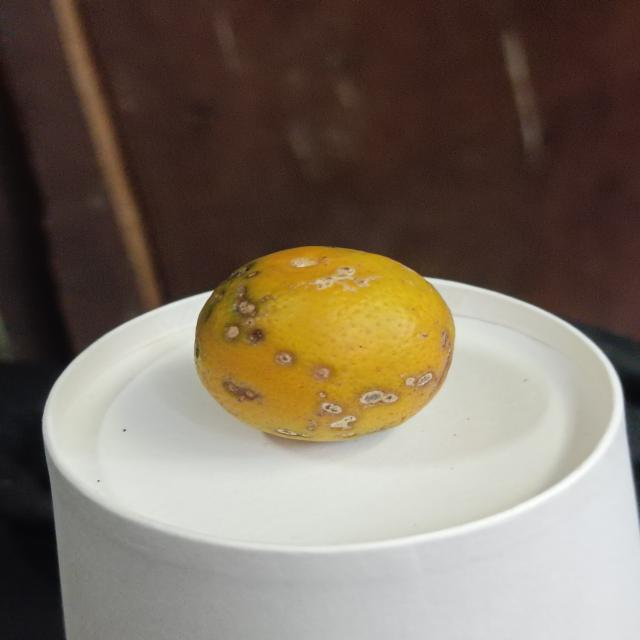black spot: (191, 244, 455, 445)
